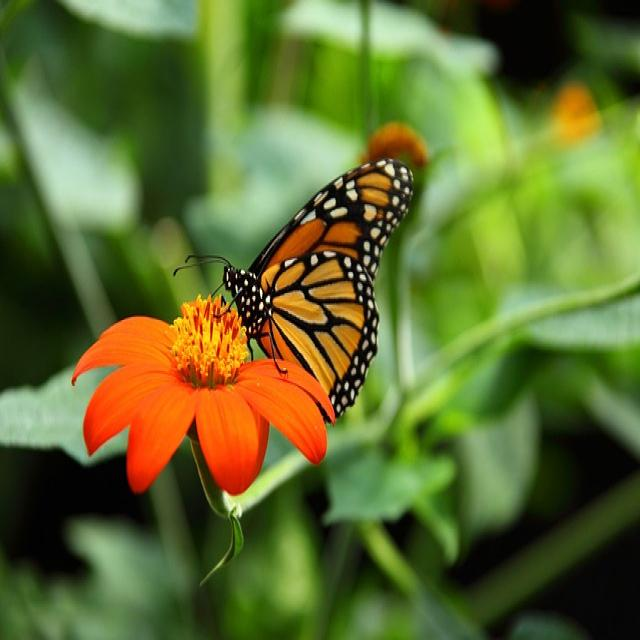butterfly: (225, 160, 412, 414)
